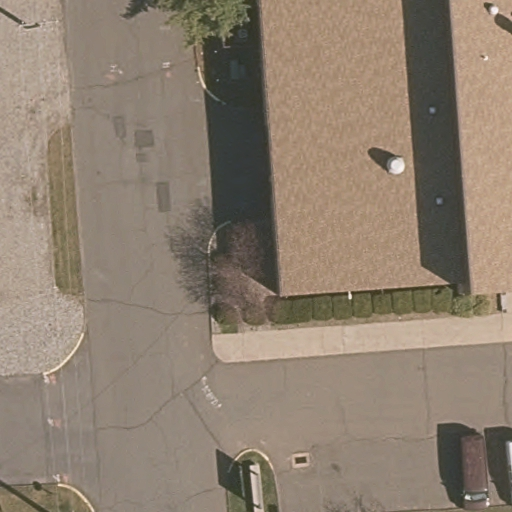DT: (14, 7, 64, 40)
